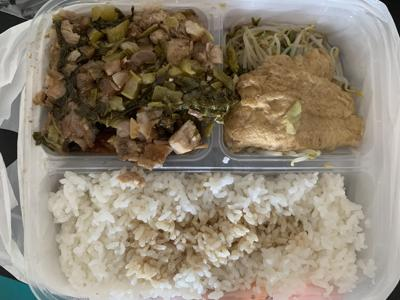rice: (42, 168, 384, 294)
